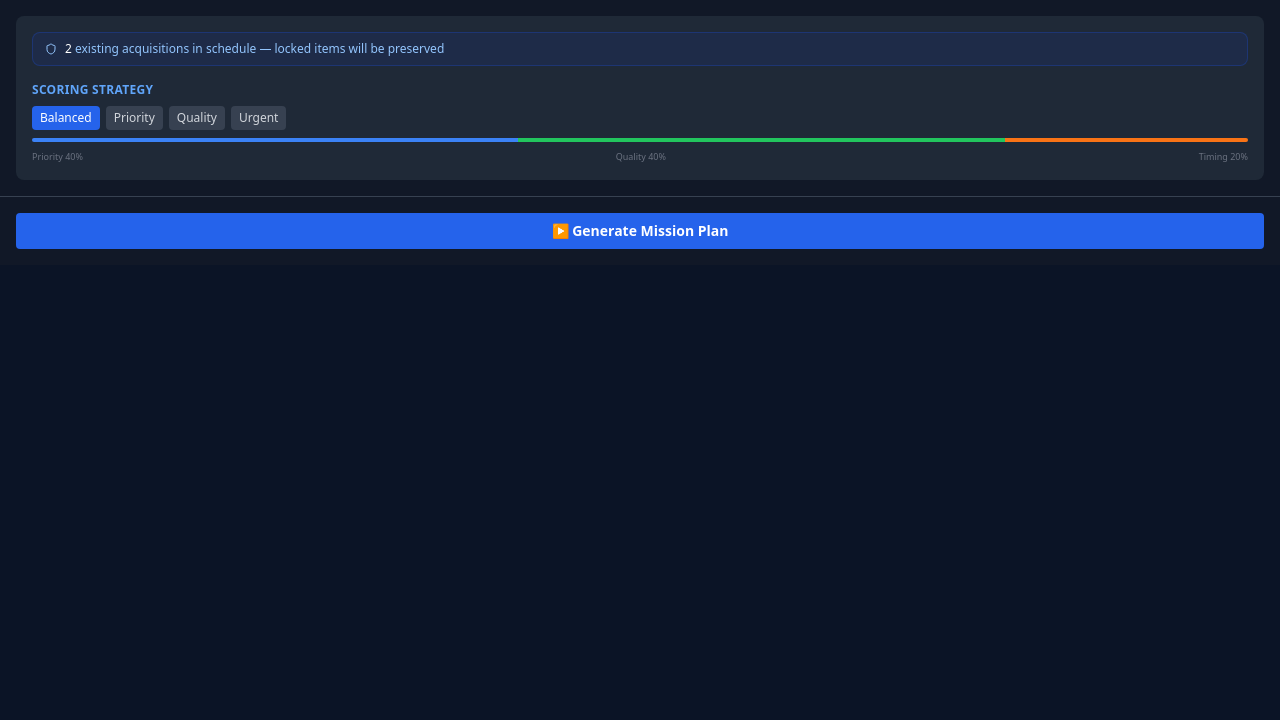
Test case: MissionPlanning › sends quality-first weights and incremental mode through the planner API
This screenshot has width=1280, height=720.
Click the button "Quality" at (197,118), box [169,106,225,130]
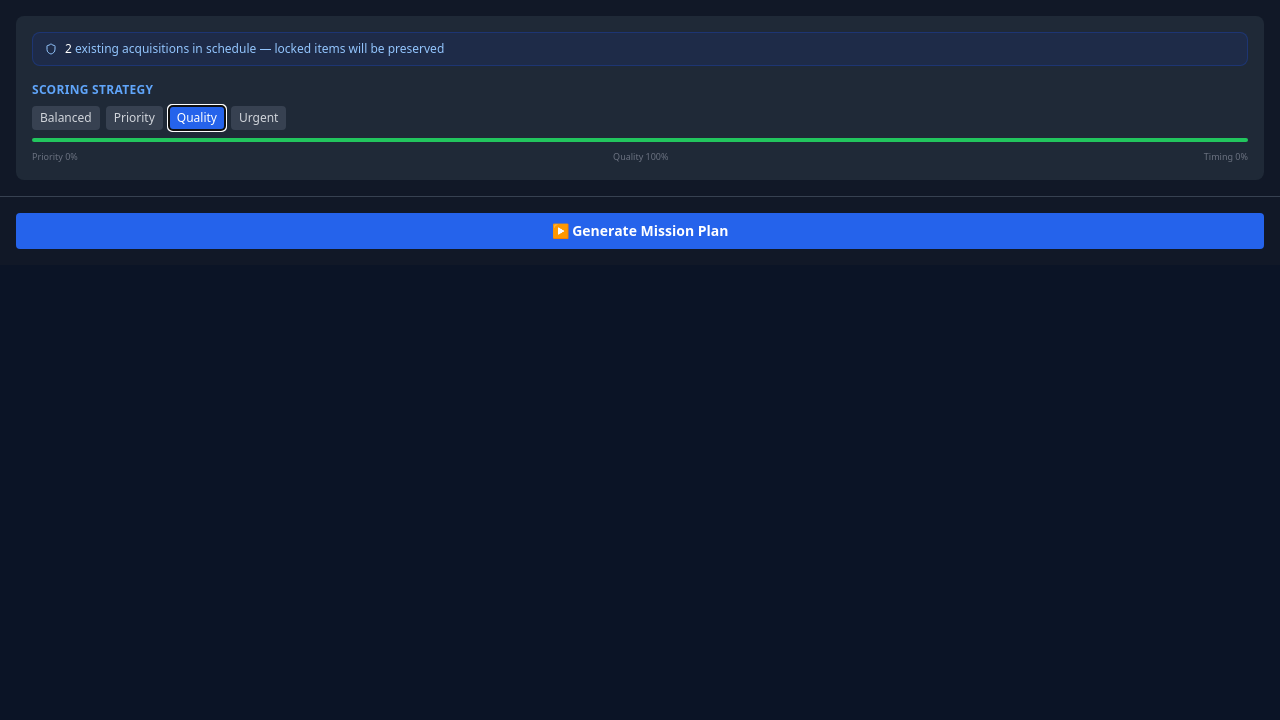
Click the button "▶ Generate Mission Plan" at (640,230), box [16,212,1264,248]
(page scrolled)
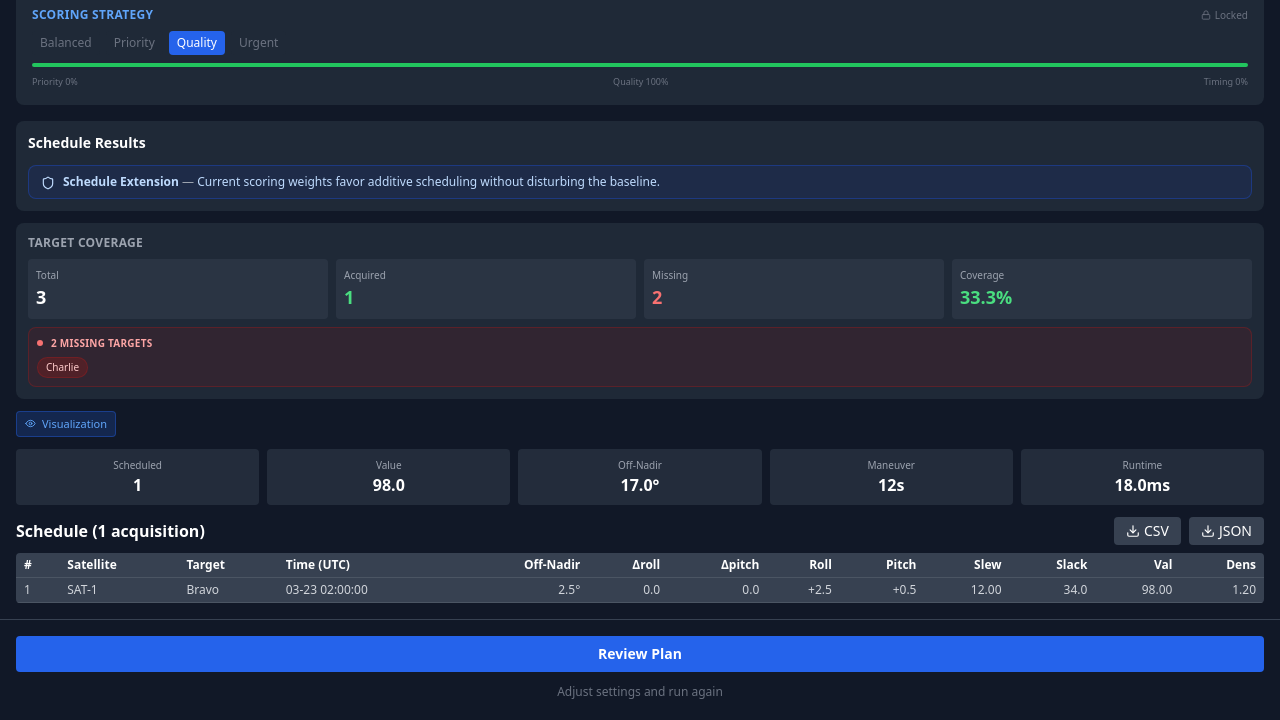
Now the text "Schedule Extension" is shown, box [63,172,179,190]
Now the text "favor additive scheduling without disturbing the baseline" is shown, box [197,172,660,190]
Now the button "Review Plan" is shown, box [16,636,1264,672]
